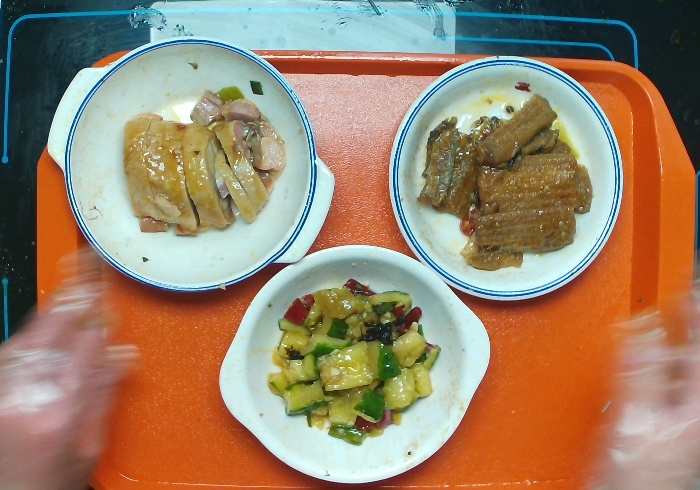HZYJPL-Dai_Er_Bai_Yuan_Wan: (216, 243, 492, 485)
HZYJPL-Lan_Bian_Dai_Er_Wan: (46, 34, 336, 294)
HZYJPL-Lan_Bian_Yuan_Die: (387, 54, 625, 303)
